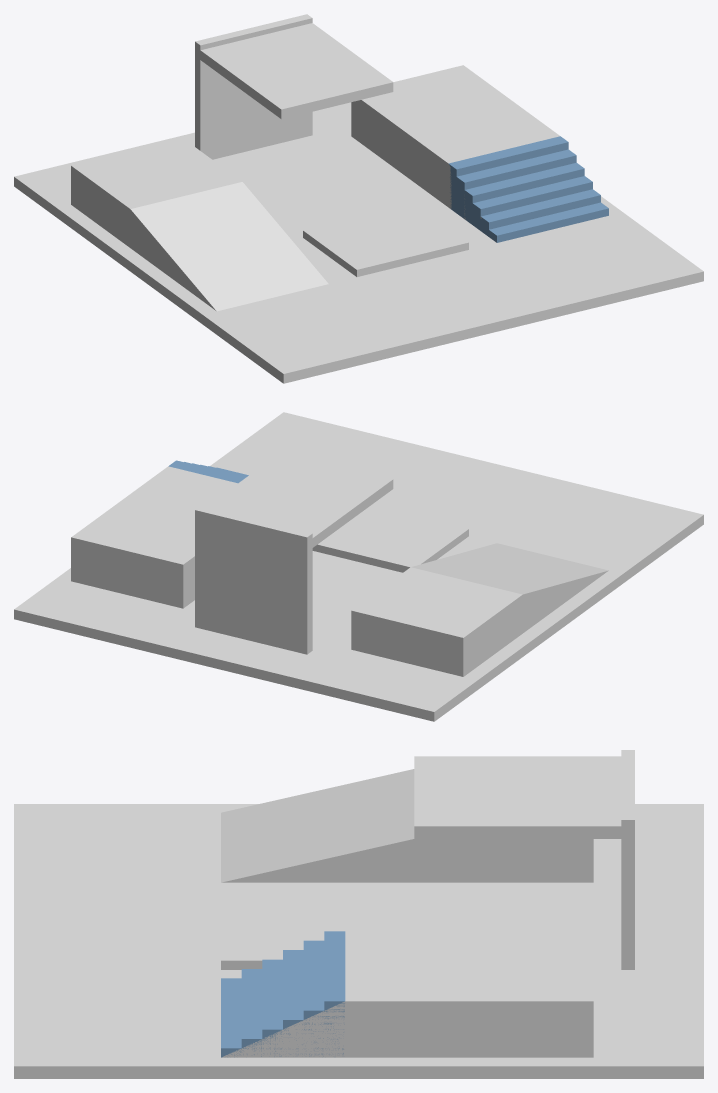
Rendered from t01_glb_collision_course.glb.
3 views of the same model, one above another, from view 1: azimuth 30°, elevation 25°; view 2: azimuth 150°, elevation 25°; view 3: azimuth 270°, elevation 25° (orthographic). The views are drawn at different scales.
Visible parts, largest first — view 1: COL_FloorBase, COL_Slope, COL_StairLanding, VIS_Stairs, COL_CeilingLow, COL_SlopeLanding, COL_WallStop, COL_Step015; view 2: COL_FloorBase, COL_WallStop, COL_StairLanding, COL_SlopeLanding, COL_CeilingLow, COL_Slope, COL_Step015, VIS_Stairs; view 3: COL_FloorBase, COL_StairLanding, COL_Slope, COL_CeilingLow, VIS_Stairs, COL_Step015, COL_SlopeLanding, COL_StairRamp, COL_WallStop.
Boxes of the visible parts, bbox=[...] form: COL_FloorBase: bbox=[14, 102, 703, 383]; COL_Slope: bbox=[130, 182, 328, 311]; COL_StairLanding: bbox=[351, 65, 560, 206]; VIS_Stairs: bbox=[448, 136, 608, 242]; COL_CeilingLow: bbox=[200, 23, 393, 119]; COL_SlopeLanding: bbox=[71, 138, 242, 247]; COL_WallStop: bbox=[195, 14, 312, 159]; COL_Step015: bbox=[303, 203, 468, 276]; COL_FloorBase: bbox=[14, 412, 703, 721]; COL_WallStop: bbox=[195, 506, 312, 654]; COL_StairLanding: bbox=[71, 466, 237, 608]; COL_SlopeLanding: bbox=[351, 567, 522, 676]; COL_CeilingLow: bbox=[206, 452, 393, 547]; COL_Slope: bbox=[411, 543, 608, 633]; COL_Step015: bbox=[312, 505, 468, 572]; VIS_Stairs: bbox=[168, 460, 248, 483]; COL_FloorBase: bbox=[14, 804, 703, 1078]; COL_StairLanding: bbox=[345, 931, 593, 1057]; COL_Slope: bbox=[221, 769, 441, 882]; COL_CeilingLow: bbox=[414, 756, 621, 838]; VIS_Stairs: bbox=[221, 931, 345, 1057]; COL_Step015: bbox=[221, 890, 358, 969]; COL_SlopeLanding: bbox=[441, 839, 593, 882]; COL_StairRamp: bbox=[222, 1001, 345, 1057]; COL_WallStop: bbox=[621, 750, 634, 969].
Bounding box in the file's own units: 9 × 2.6 × 10.
